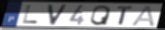4: (68, 4, 86, 27)
A: (131, 5, 156, 27)
L: (21, 5, 39, 24)
Q: (89, 5, 112, 26)
T: (116, 6, 135, 26)
V: (47, 4, 69, 26)
